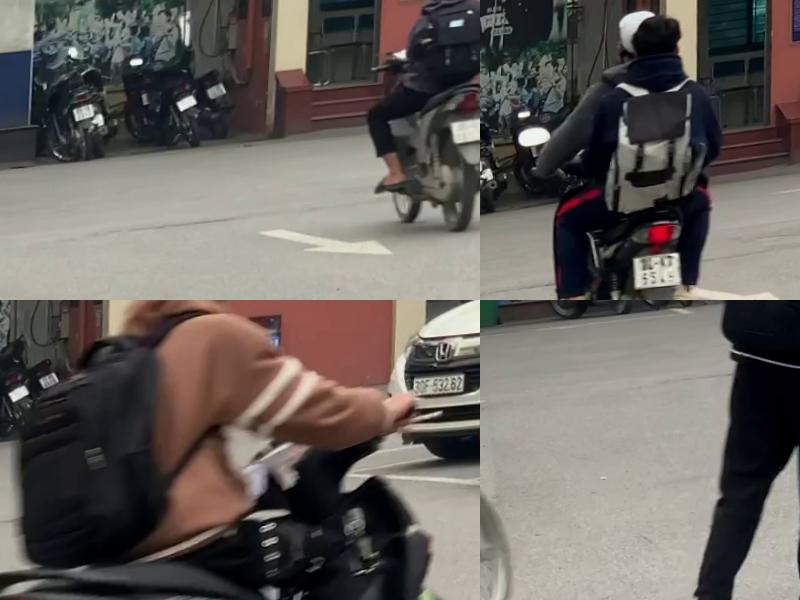license_plate: (634, 256, 687, 298), (453, 127, 480, 157), (7, 389, 35, 409), (39, 376, 65, 397), (75, 107, 99, 126), (209, 89, 231, 108), (180, 100, 201, 116), (480, 158, 485, 181)
motorcyclist: (0, 300, 457, 600), (526, 6, 741, 300), (363, 0, 480, 251)
